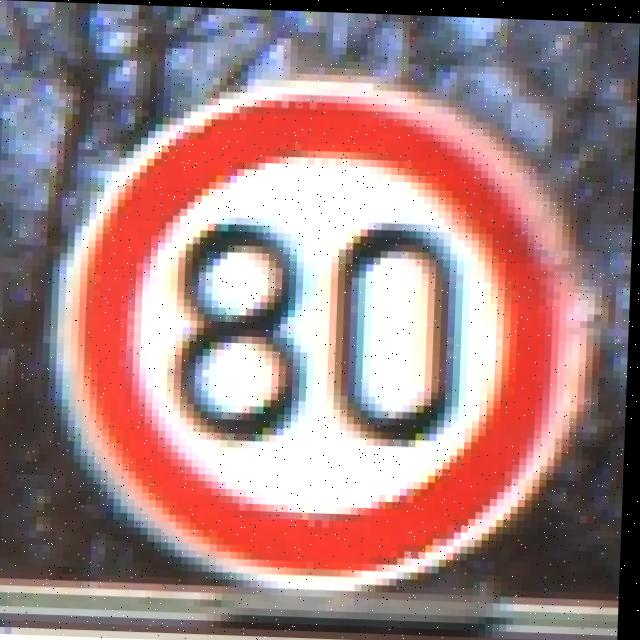speed_limit_80: (55, 77, 587, 578)
